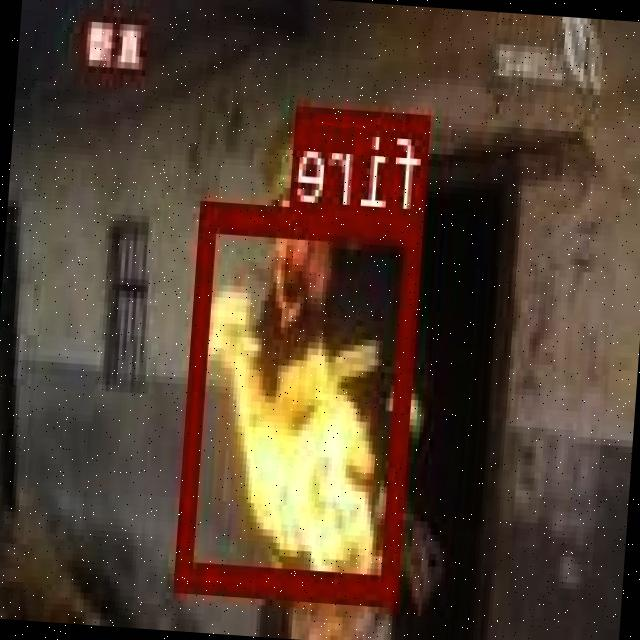fire: (178, 198, 424, 600)
